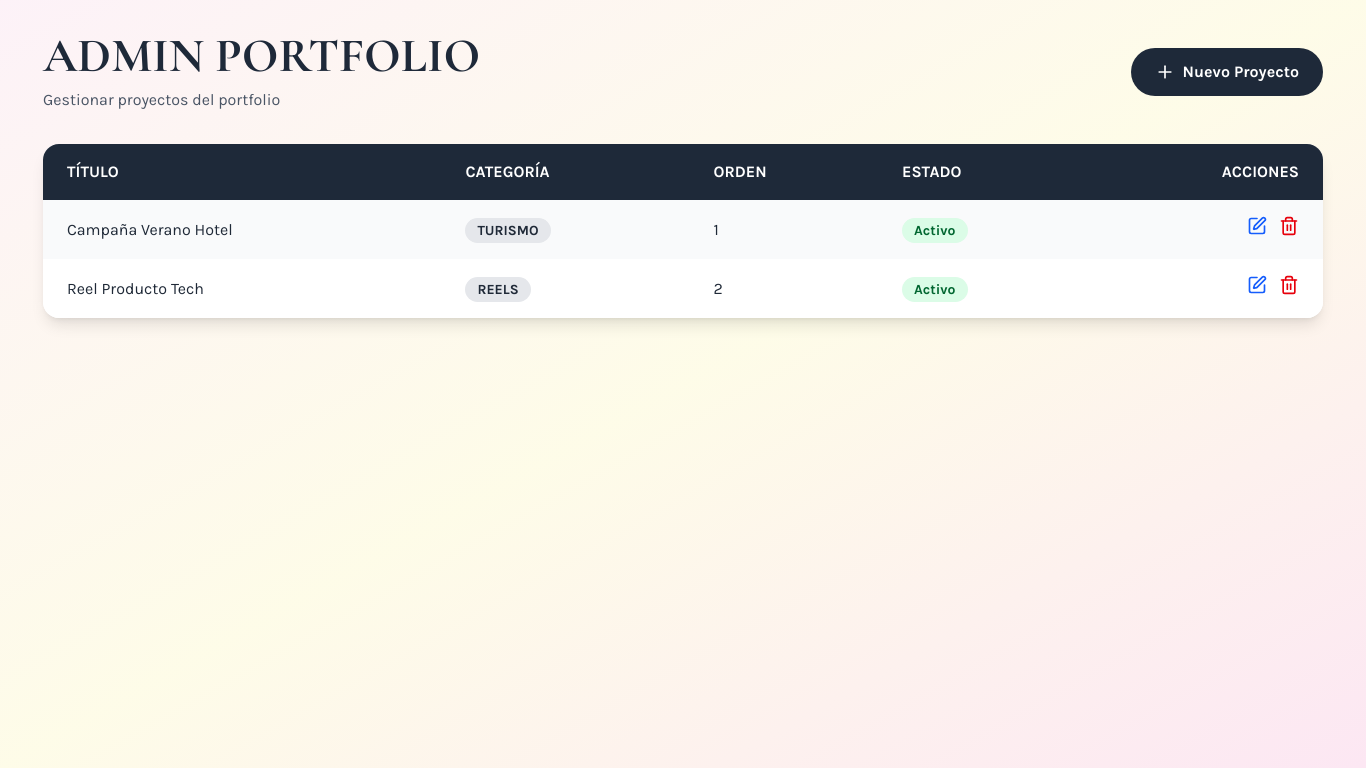
AdminPortfolio › carga datos en el formulario al editar
What coordinates should you click on to do the following:
click the button with test id "edit-1"
I would click on:
 (1257, 226)
Its box is [1247, 216, 1267, 236].
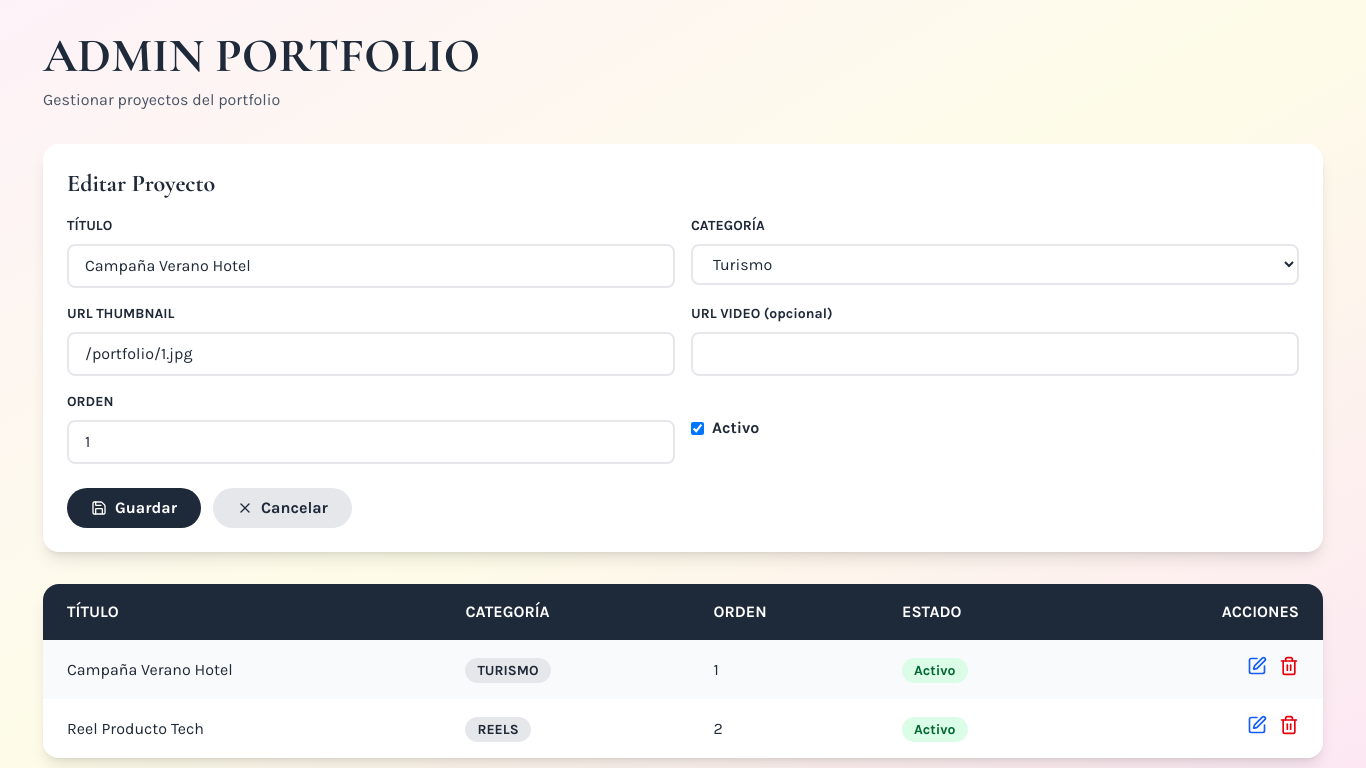
expect the element with test id "edit-form" is shown: met, box [43, 144, 1323, 552]
expect the field with test id "input-title" holds "Campaña Verano Hotel": met, box [67, 244, 675, 288]
expect the dropdown with test id "input-category" shows "Turismo": met, box [691, 244, 1299, 285]
